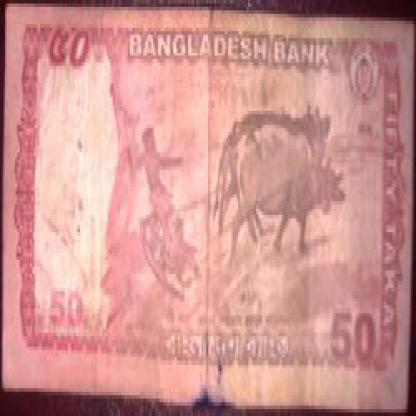Fifty taka: (46, 14, 104, 93), (323, 305, 383, 381)
